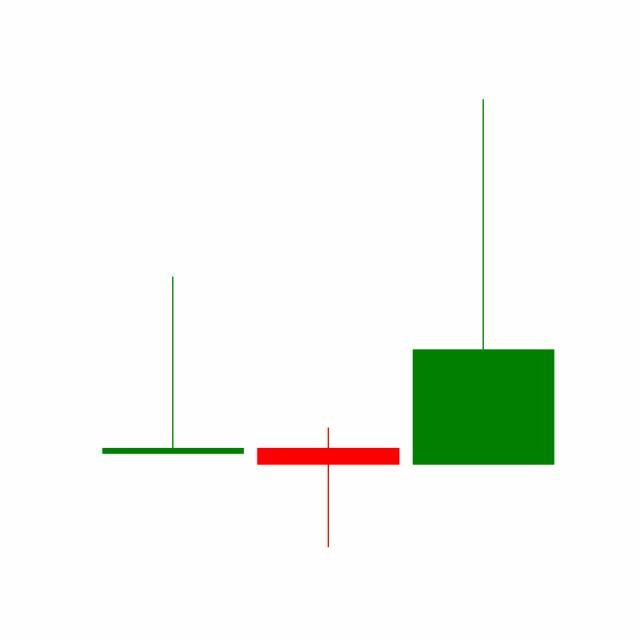Dragonfly Doji: (250, 426, 407, 549)
